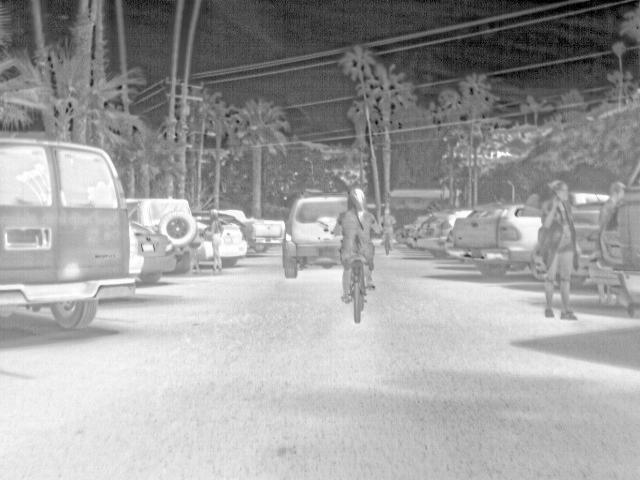car: (1, 136, 132, 331), (597, 163, 640, 315), (126, 196, 200, 276), (283, 192, 349, 280), (453, 214, 540, 278), (418, 208, 475, 260), (132, 221, 179, 284), (588, 260, 626, 308), (247, 218, 286, 254), (222, 220, 249, 268), (400, 214, 431, 246), (469, 202, 526, 216)
person: (540, 179, 580, 322), (339, 188, 375, 258), (601, 181, 625, 232), (210, 209, 223, 275), (381, 208, 394, 234)
